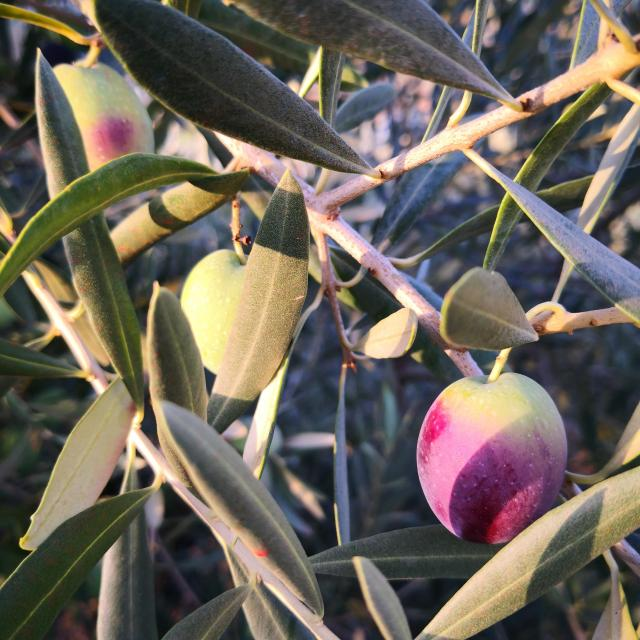Healthy: (417, 373, 567, 544), (53, 63, 154, 171), (180, 249, 245, 375)
